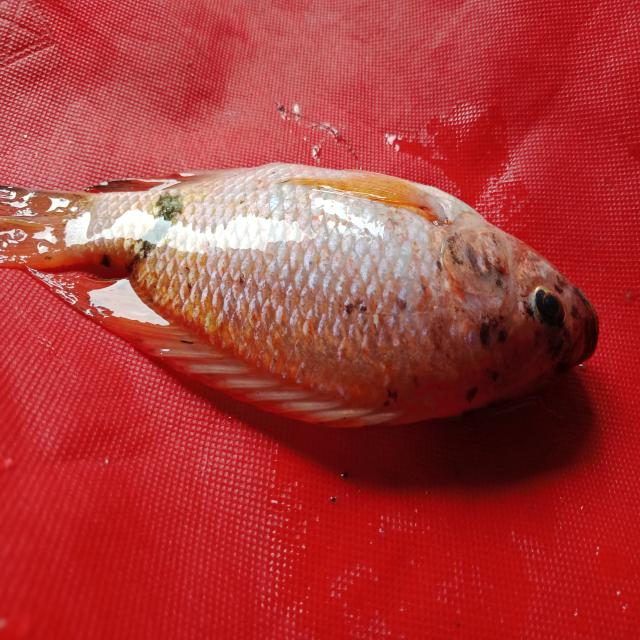ikan: (8, 115, 610, 455)
